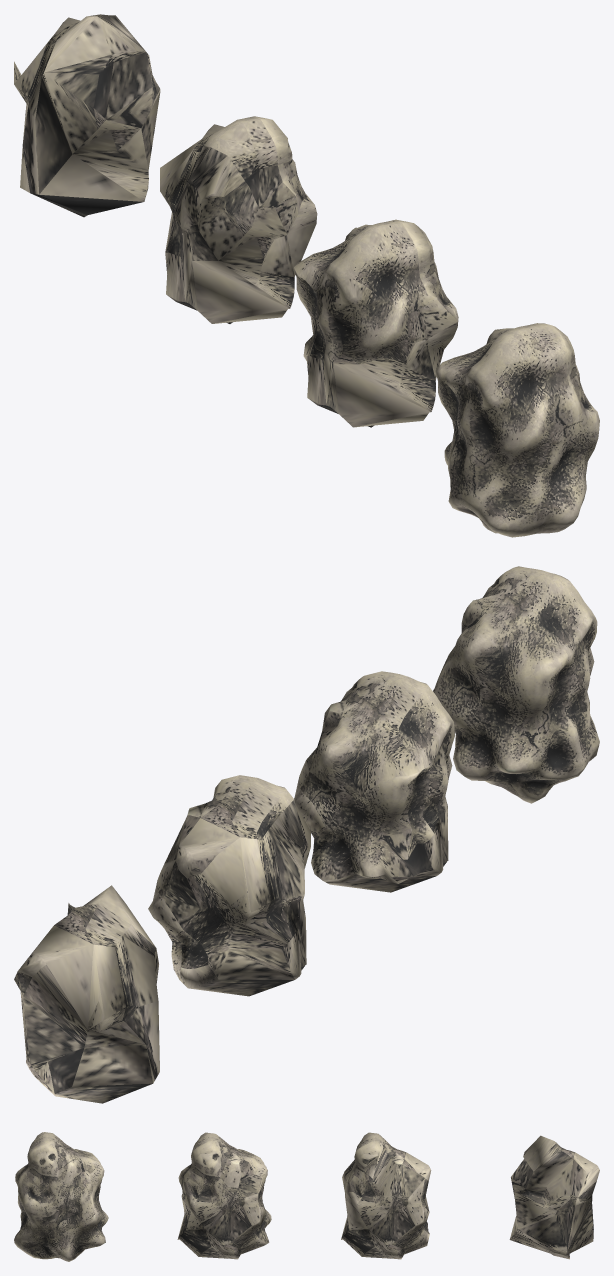
Rendered from Rocks 1000 to 97.fbx.
3 views of the same model, one above another, from view 1: azimuth 30°, elevation 25°; view 2: azimuth 150°, elevation 25°; view 3: azimuth 270°, elevation 25° (orthographic). The views are drawn at different scales.
Visible parts, largest first — view 1: rock_1145, rock_540, rock_270, rock_97; view 2: rock_1145, rock_540, rock_270, rock_97; view 3: rock_1145, rock_540, rock_270, rock_97.
Boxes of the visible parts, box(x1,y1,x2,y2) form: rock_1145: box(435, 323, 599, 537); rock_540: box(294, 219, 458, 427); rock_270: box(160, 116, 317, 323); rock_97: box(14, 14, 160, 217); rock_1145: box(433, 566, 599, 803); rock_540: box(294, 671, 454, 892); rock_270: box(148, 775, 310, 996); rock_97: box(14, 885, 159, 1103); rock_1145: box(14, 1132, 108, 1261); rock_540: box(177, 1132, 271, 1259); rock_270: box(341, 1132, 431, 1259); rock_97: box(509, 1135, 599, 1259).
Bounding box in the file's own units: 1.83 × 2.89 × 12.37.
